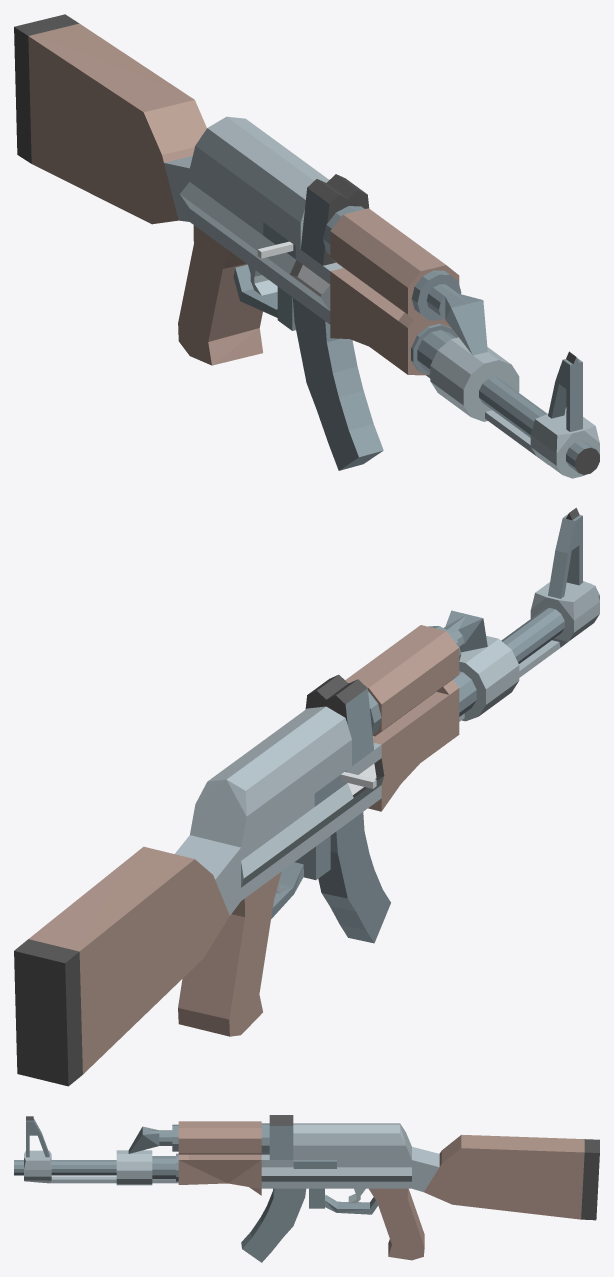
File: akm gun.fbx
The picture shows the model from 3 angles, top to bottom: view 1: azimuth 30°, elevation 25°; view 2: azimuth 150°, elevation 25°; view 3: azimuth 270°, elevation 25°; orthographic projection. The views are drawn at different scales.
Parts seen in each view (by area): view 1: group_767204699, group_1433166684; view 2: group_767204699, group_1433166684; view 3: group_767204699, group_1433166684.
Part boxes in pixels (x1=…): group_767204699: x1=14, y1=14, x2=599, y2=478; group_1433166684: x1=292, y1=297, x2=383, y2=470; group_767204699: x1=14, y1=507, x2=599, y2=1086; group_1433166684: x1=318, y1=812, x2=390, y2=943; group_767204699: x1=14, y1=1115, x2=599, y2=1260; group_1433166684: x1=241, y1=1188, x2=306, y2=1262.
Bounding box in the file's own units: 14 × 40.39 × 148.
